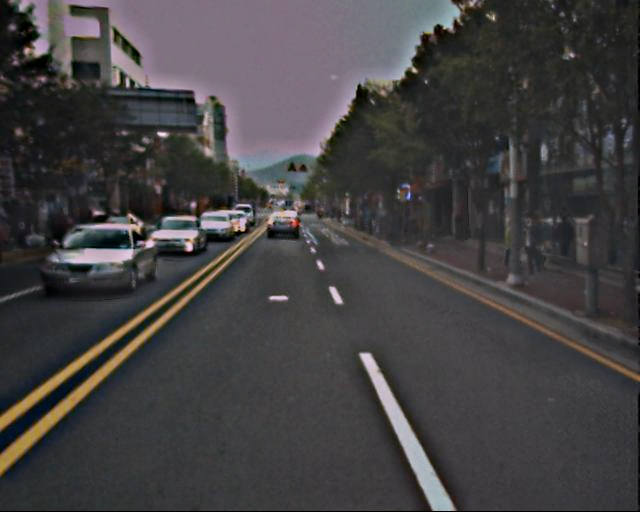person: (520, 213, 545, 275), (555, 215, 573, 259)
